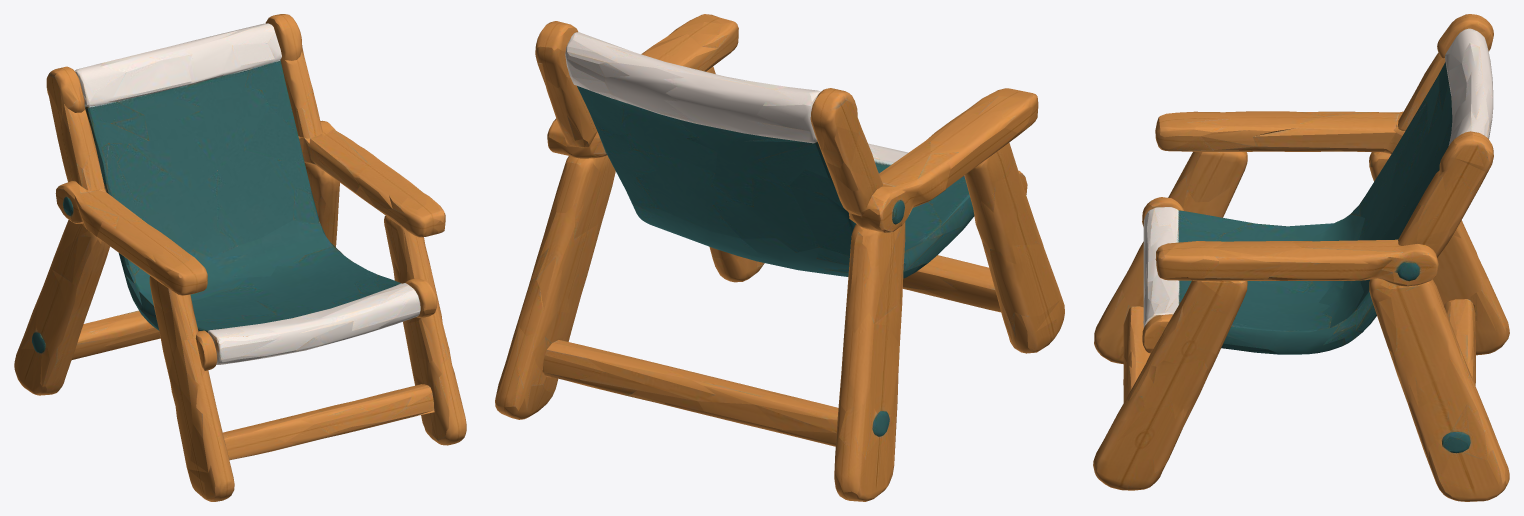
The model's file is campChair.glb.
3 views of the same model, side by side, from view 1: azimuth 30°, elevation 25°; view 2: azimuth 150°, elevation 25°; view 3: azimuth 270°, elevation 25° (orthographic). The views are drawn at different scales.
Parts seen in each view (by area): view 1: Mesh_0; view 2: Mesh_0; view 3: Mesh_0.
Part boxes in pixels (bbox=[...]): Mesh_0: bbox=[14, 14, 466, 501]; Mesh_0: bbox=[495, 14, 1064, 501]; Mesh_0: bbox=[1093, 14, 1509, 501].
Size of the model in its own units: 0.7218 by 0.7423 by 0.8.
1 material, 1 textured.
